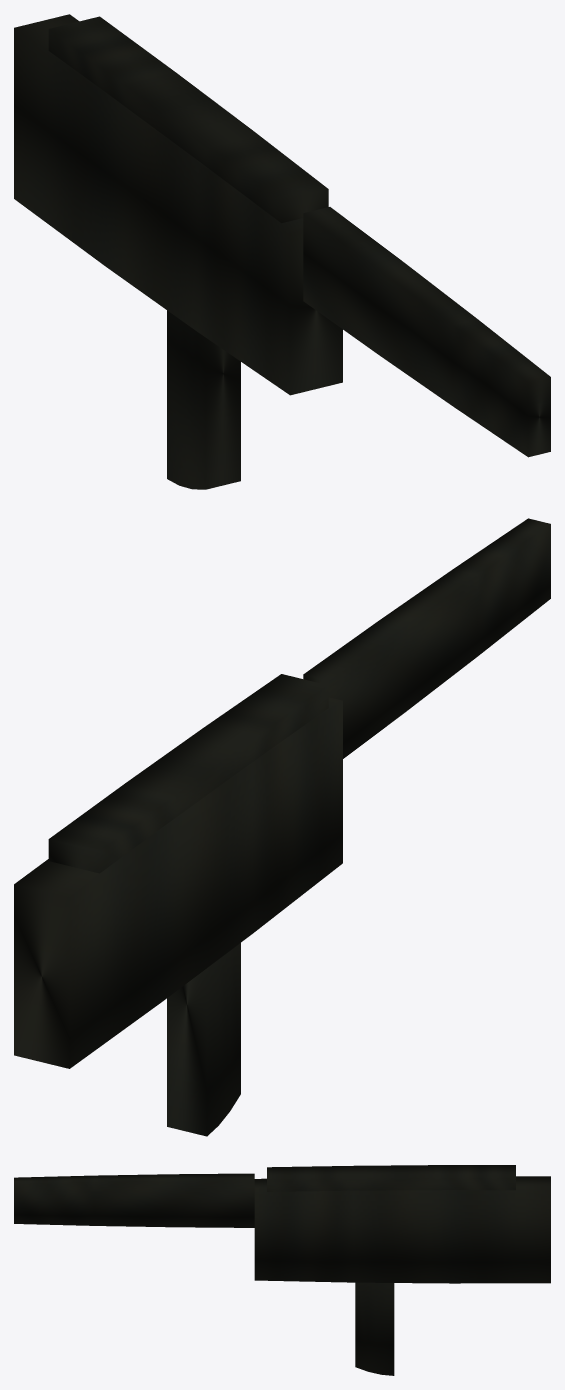
The model's file is wpn_saiga12_auto.glb.
The picture shows the model from 3 angles, top to bottom: view 1: azimuth 30°, elevation 25°; view 2: azimuth 150°, elevation 25°; view 3: azimuth 270°, elevation 25°; orthographic projection. The views are drawn at different scales.
Visible parts, largest first — view 1: SubMesh_0_Receiver, SubMesh_3_BarrelSight, SubMesh_1_Action, SubMesh_2_Magazine; view 2: SubMesh_0_Receiver, SubMesh_3_BarrelSight, SubMesh_1_Action, SubMesh_2_Magazine; view 3: SubMesh_0_Receiver, SubMesh_3_BarrelSight, SubMesh_1_Action, SubMesh_2_Magazine.
Part boxes in pixels (bbox=[...]): SubMesh_0_Receiver: bbox=[14, 14, 342, 395]; SubMesh_3_BarrelSight: bbox=[303, 207, 550, 457]; SubMesh_1_Action: bbox=[48, 16, 328, 223]; SubMesh_2_Magazine: bbox=[167, 310, 240, 489]; SubMesh_0_Receiver: bbox=[14, 697, 342, 1068]; SubMesh_3_BarrelSight: bbox=[303, 518, 550, 758]; SubMesh_1_Action: bbox=[48, 674, 328, 873]; SubMesh_2_Magazine: bbox=[167, 943, 240, 1136]; SubMesh_0_Receiver: bbox=[254, 1176, 550, 1283]; SubMesh_3_BarrelSight: bbox=[14, 1173, 254, 1227]; SubMesh_1_Action: bbox=[267, 1165, 515, 1191]; SubMesh_2_Magazine: bbox=[355, 1282, 394, 1375].
Size of the model in its own units: 0.0623 by 0.3924 by 0.96.
Materials: 1 (1 with a texture image).
